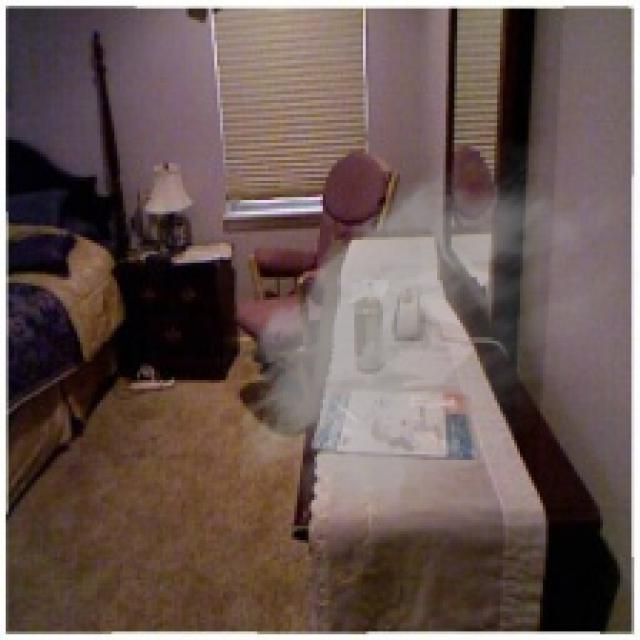smoke: (223, 131, 637, 546)
